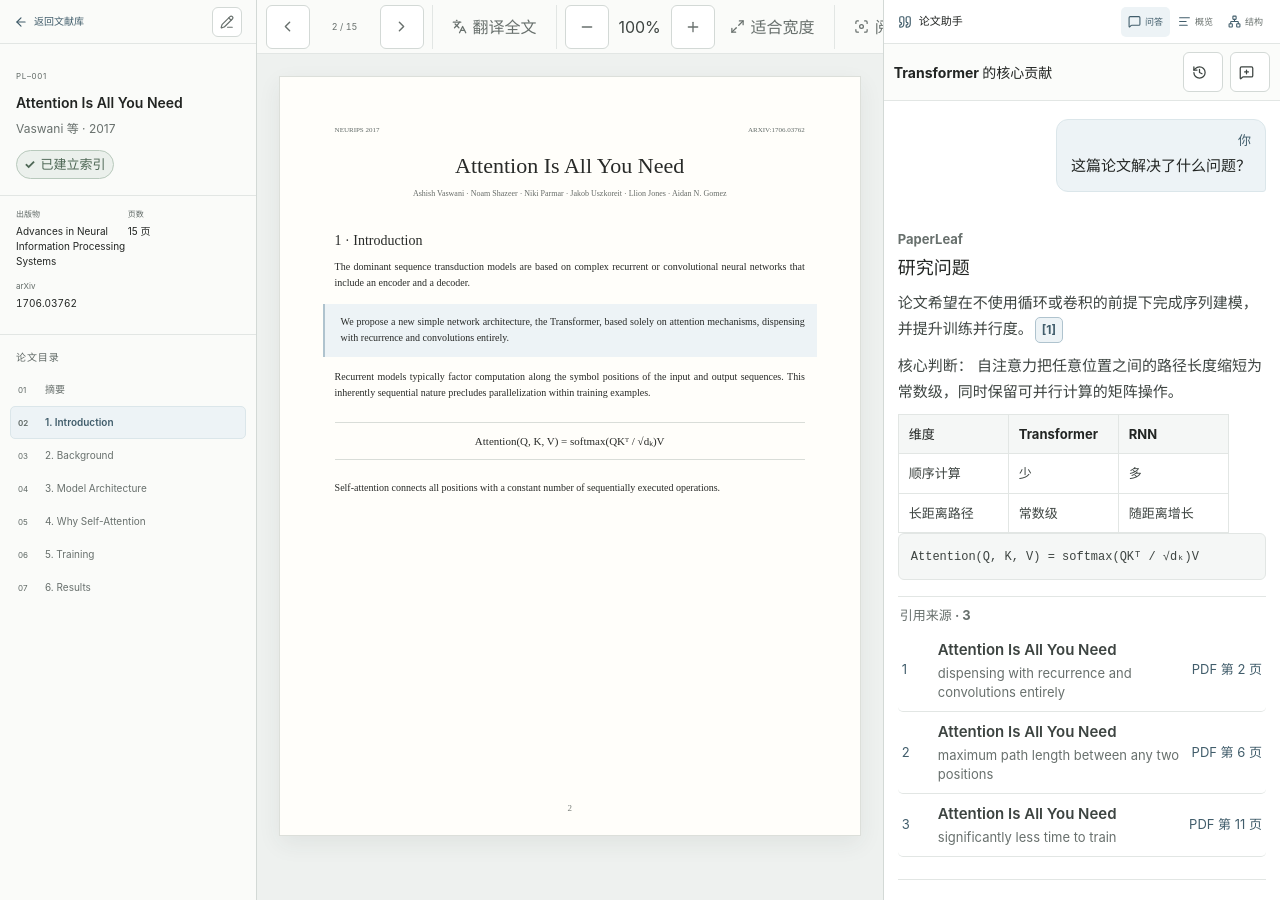
Test: PaperWorkspace PDF 主视区 › 从回答引用跳到其他物理页时清理旧页选文
This screenshot has width=1280, height=900.
Click the button titled "PDF 第 6 页". click: (1082, 753)
box: x1=898 y1=712 x2=1266 y2=794
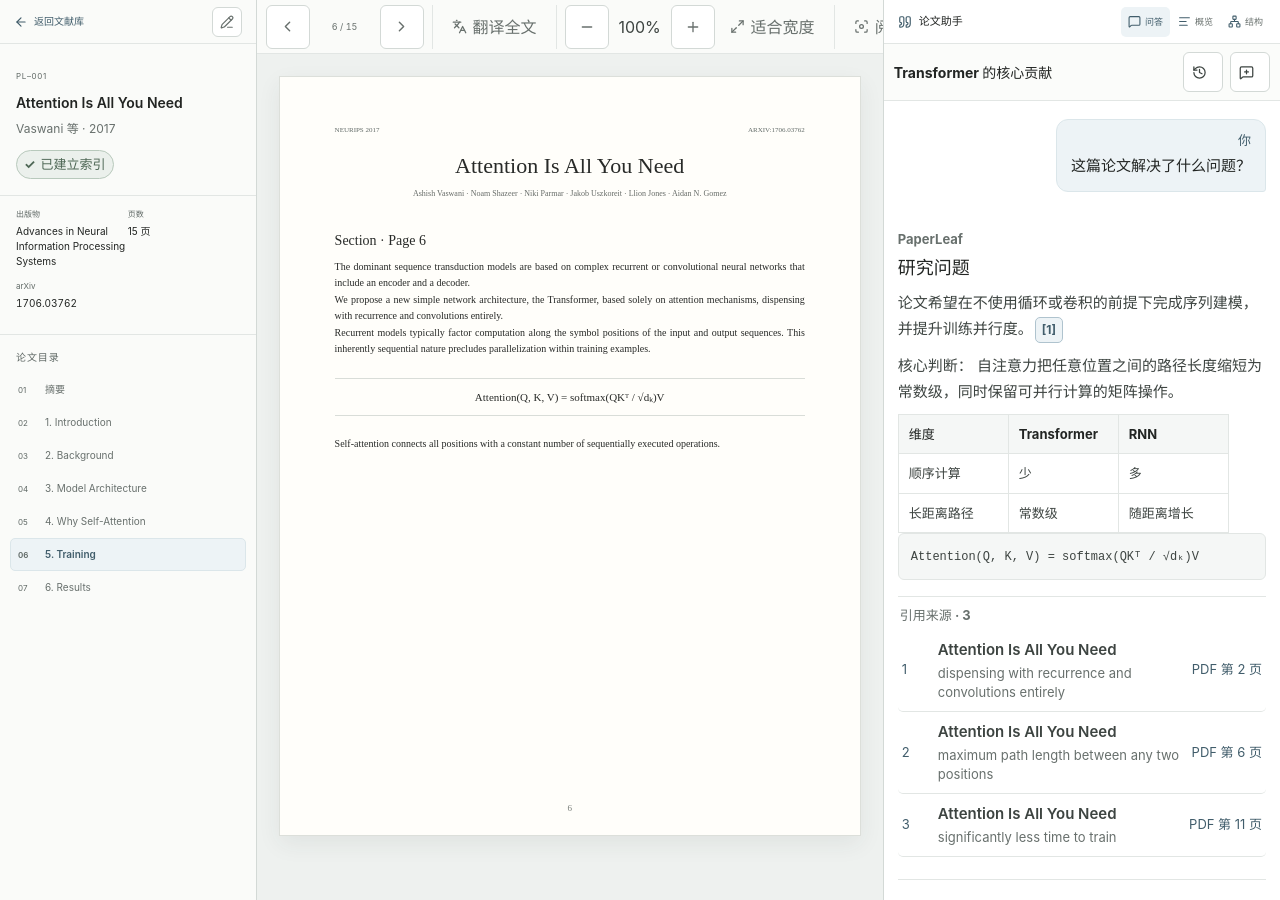
Expected: the text named "第 6 页，共 15 页" is shown, x1=332 y1=21 x2=357 y2=32
